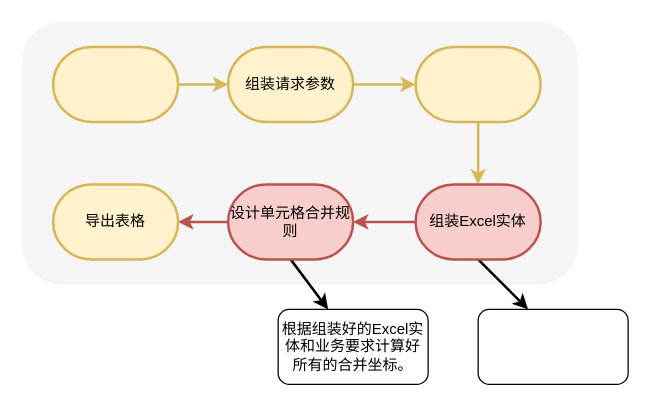
Some shapes in this 650 by 406 pixel diagram are drawn without their labels. The centre of each missing label's shape, as x and y in pixels:
"复用分页查询接口" belongs at (477,83).
"接受表格导出请求" belongs at (115,83).
"结合业务逻辑和同事代码思路分析出数据内在规则。" belongs at (552,346).
